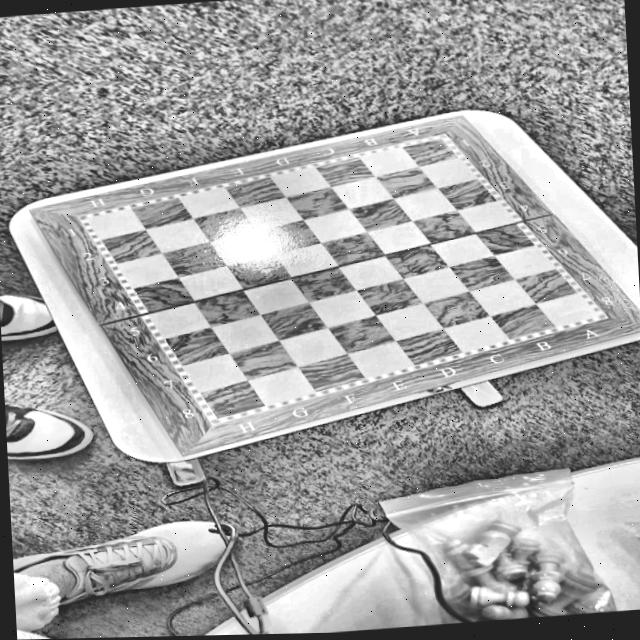black-rook: (0, 290, 18, 332)
chessboard: (38, 111, 636, 450)
